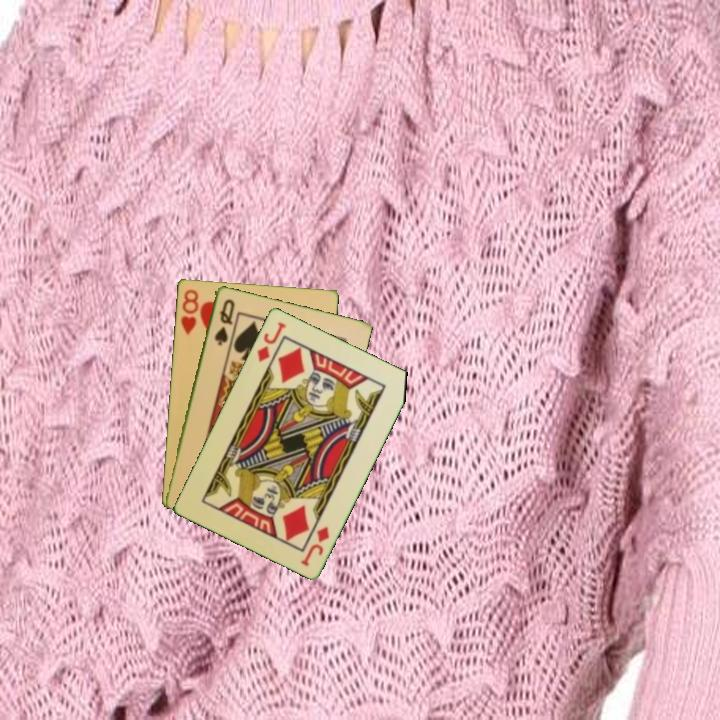8h: (177, 286, 201, 337)
Jd: (253, 318, 289, 364), (297, 523, 332, 569)
Qs: (211, 295, 238, 348)
